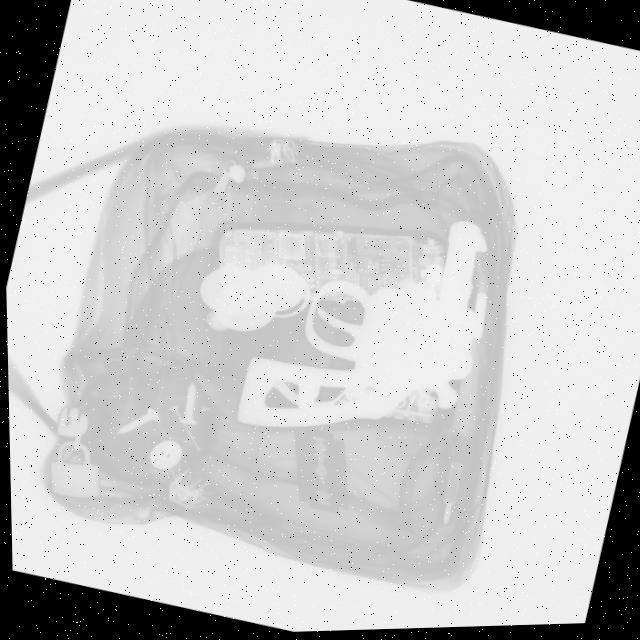pistol: (228, 180, 501, 474)
